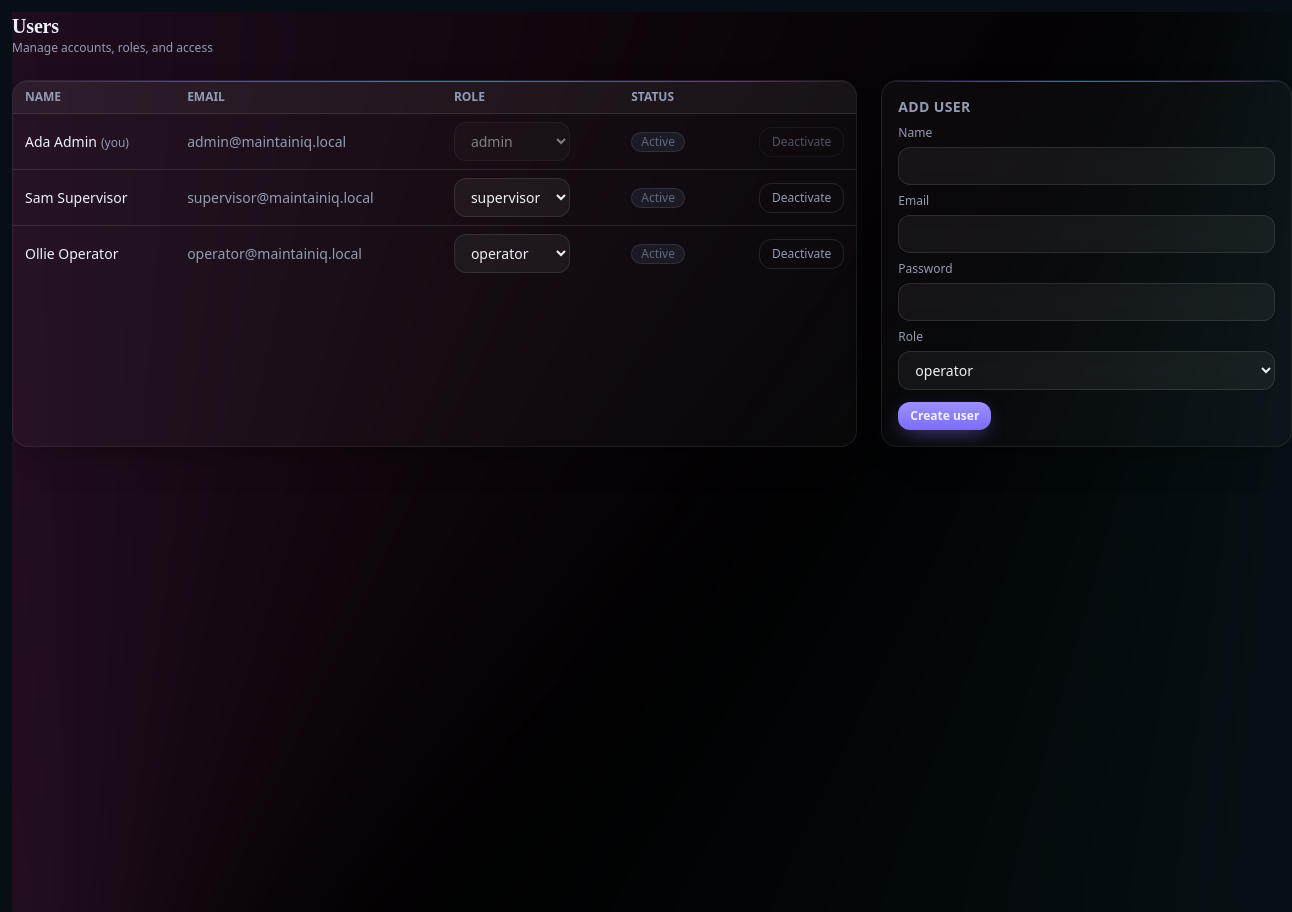
AdminUsersPage › deactivates another user
The image size is (1292, 912).
Expected: the text "Ollie Operator" is shown, [13,226,175,281]
Expected: the text "Active" in the row of "Ollie Operator" is shown, [641,245,675,262]
Click the button "Deactivate" in the row of "Ollie Operator" at [802, 254], box [759,238,844,268]
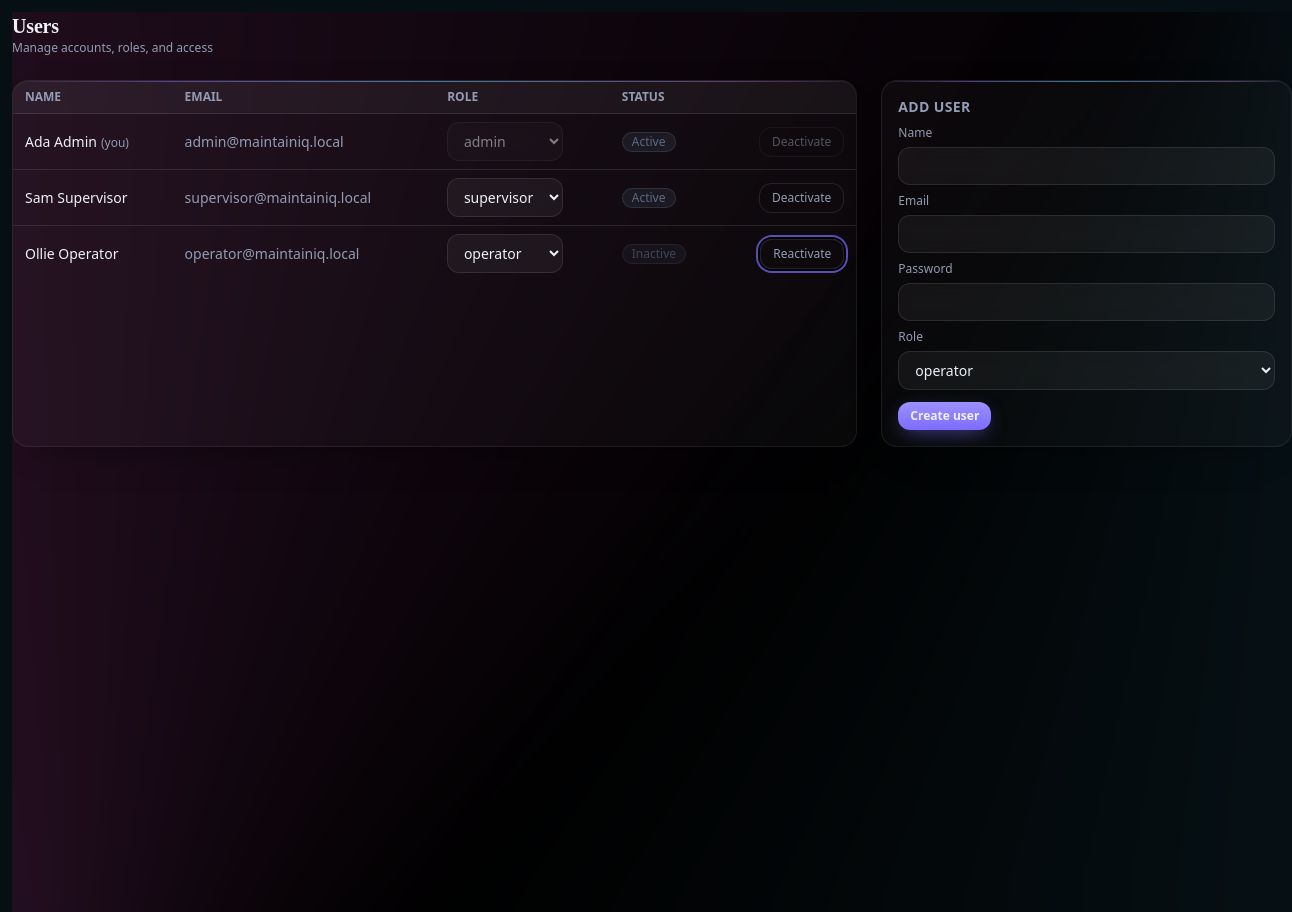
Expected: the text "Inactive" is shown, [622,244,686,264]
Expected: the button "Reactivate" is shown, [760,238,844,268]
